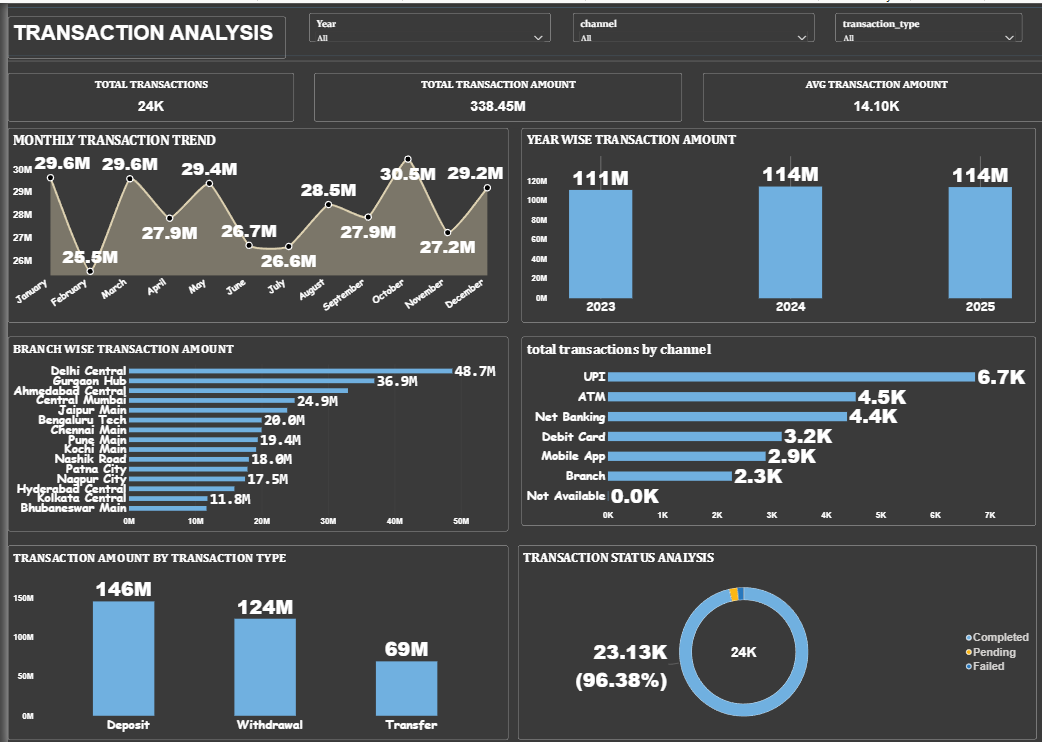

The page's visual inventory and layout, read from the dashboard file:
{"tool":"powerbi","page":{"name":"Page 4","canvas":[1920,1080],"ordinal":6},"visuals":[{"type":"cardVisual","title":"TOTAL TRANSACTIONS","fields":{"Data":["public accounts.total transactions"]},"box":[0,0,280,280],"z":0},{"type":"cardVisual","title":"TOTAL TRANSACTION AMOUNT","fields":{"Data":["public accounts.total transaction amount"]},"box":[0,290,280,280],"z":1000},{"type":"cardVisual","title":"AVG TRANSACTION AMOUNT","fields":{"Data":["public accounts.average transaction amount"]},"box":[0,580,280,280],"z":2000},{"type":"slicer","fields":{"Values":["public transactions.transaction_date.Variation.Date Hierarchy.Year"]},"box":[0.5,856,280,210],"z":3000},{"type":"slicer","fields":{"Values":["public transactions.transaction_type"]},"box":[288,144,288,112],"z":4000},{"type":"slicer","fields":{"Values":["public transactions.channel"]},"box":[288,0,288,112],"z":5000},{"type":"lineChart","title":"MONTHLY TRANSACTION TREND","fields":{"Category":["public transactions.transaction_date.Variation.Date Hierarchy.Month"],"Y":["public accounts.total transaction amount"]},"box":[288,216,768,288],"z":6000},{"type":"clusteredColumnChart","title":"TRANSACTION AMOUNT BY TRANSACTION TYPE","fields":{"Y":["public accounts.total transaction amount"],"Category":["public transactions.transaction_type"]},"box":[192,784,768,280],"z":7000},{"type":"clusteredBarChart","fields":{"Y":["public accounts.total transactions"],"Category":["public transactions.channel"]},"box":[1056,0,720,288],"z":8000},{"type":"donutChart","title":"TRANSACTION STATUS ANALYSIS","fields":{"Category":["public transactions.transaction_status"],"Y":["CountNonNull(public transactions.transaction_id)"]},"box":[768,456,720,216],"z":9000},{"type":"clusteredBarChart","title":"BRANCH WISE TRANSACTION AMOUNT","fields":{"Category":["public branches.branch_name"],"Y":["public accounts.total transaction amount"]},"box":[1120,712,720,360],"z":10000},{"type":"clusteredColumnChart","title":"YEAR WISE TRANSACTION AMOUNT","fields":{"Category":["public transactions.transaction_date.Variation.Date Hierarchy.Year"],"Y":["public accounts.total transaction amount"]},"box":[1056,288,720,168],"z":11000}]}

Visuals, with their boxes on the page's 1920x1080 design canvas (x1, y1, x2, y2). These are canvas units, not pixel positions in the 1042x742 screenshot, which may show the page scaled, cropped or inside an application window:
"TOTAL TRANSACTIONS" cardVisual: [0,0,280,280]
"TOTAL TRANSACTION AMOUNT" cardVisual: [0,290,280,570]
"AVG TRANSACTION AMOUNT" cardVisual: [0,580,280,860]
slicer - public transactions.transaction_date.Variation.Date Hierarchy.Year: [0,856,280,1066]
slicer - public transactions.transaction_type: [288,144,576,256]
slicer - public transactions.channel: [288,0,576,112]
"MONTHLY TRANSACTION TREND" lineChart: [288,216,1056,504]
"TRANSACTION AMOUNT BY TRANSACTION TYPE" clusteredColumnChart: [192,784,960,1064]
clusteredBarChart - public accounts.total transactions x public transactions.channel: [1056,0,1776,288]
"TRANSACTION STATUS ANALYSIS" donutChart: [768,456,1488,672]
"BRANCH WISE TRANSACTION AMOUNT" clusteredBarChart: [1120,712,1840,1072]
"YEAR WISE TRANSACTION AMOUNT" clusteredColumnChart: [1056,288,1776,456]
